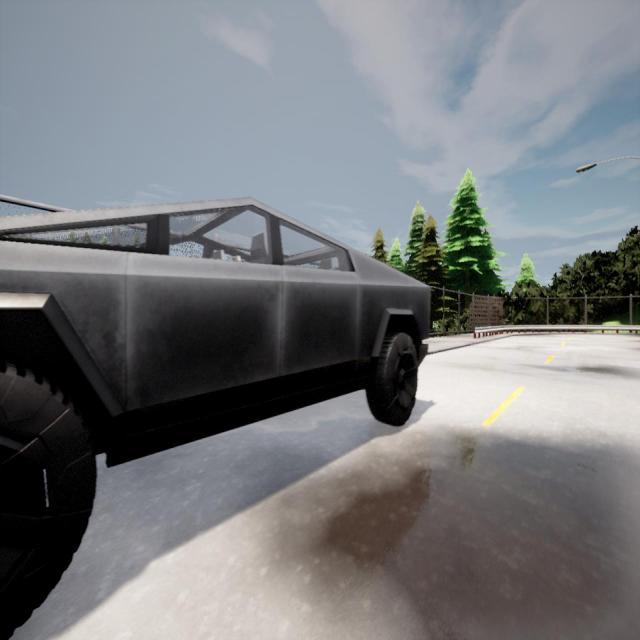Vehicle: (0, 198, 430, 640)
